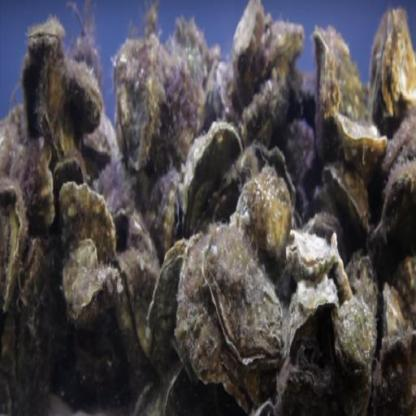3: (200, 223, 284, 366), (146, 238, 188, 372), (114, 33, 154, 166), (232, 147, 299, 225), (142, 172, 181, 253), (65, 60, 102, 139), (286, 228, 335, 282), (393, 260, 416, 325), (27, 22, 63, 53)
Oyster-Closed: (180, 234, 264, 407), (0, 233, 59, 416), (313, 30, 370, 168), (38, 47, 92, 182), (282, 275, 339, 367), (370, 9, 416, 122), (237, 166, 293, 256), (7, 141, 53, 236), (322, 156, 371, 233), (332, 295, 376, 379), (248, 24, 306, 84), (333, 117, 386, 181), (0, 189, 26, 312), (65, 240, 104, 320), (234, 0, 263, 66)
Oyster-Open: (59, 188, 116, 271), (277, 122, 315, 182), (383, 283, 412, 342)
